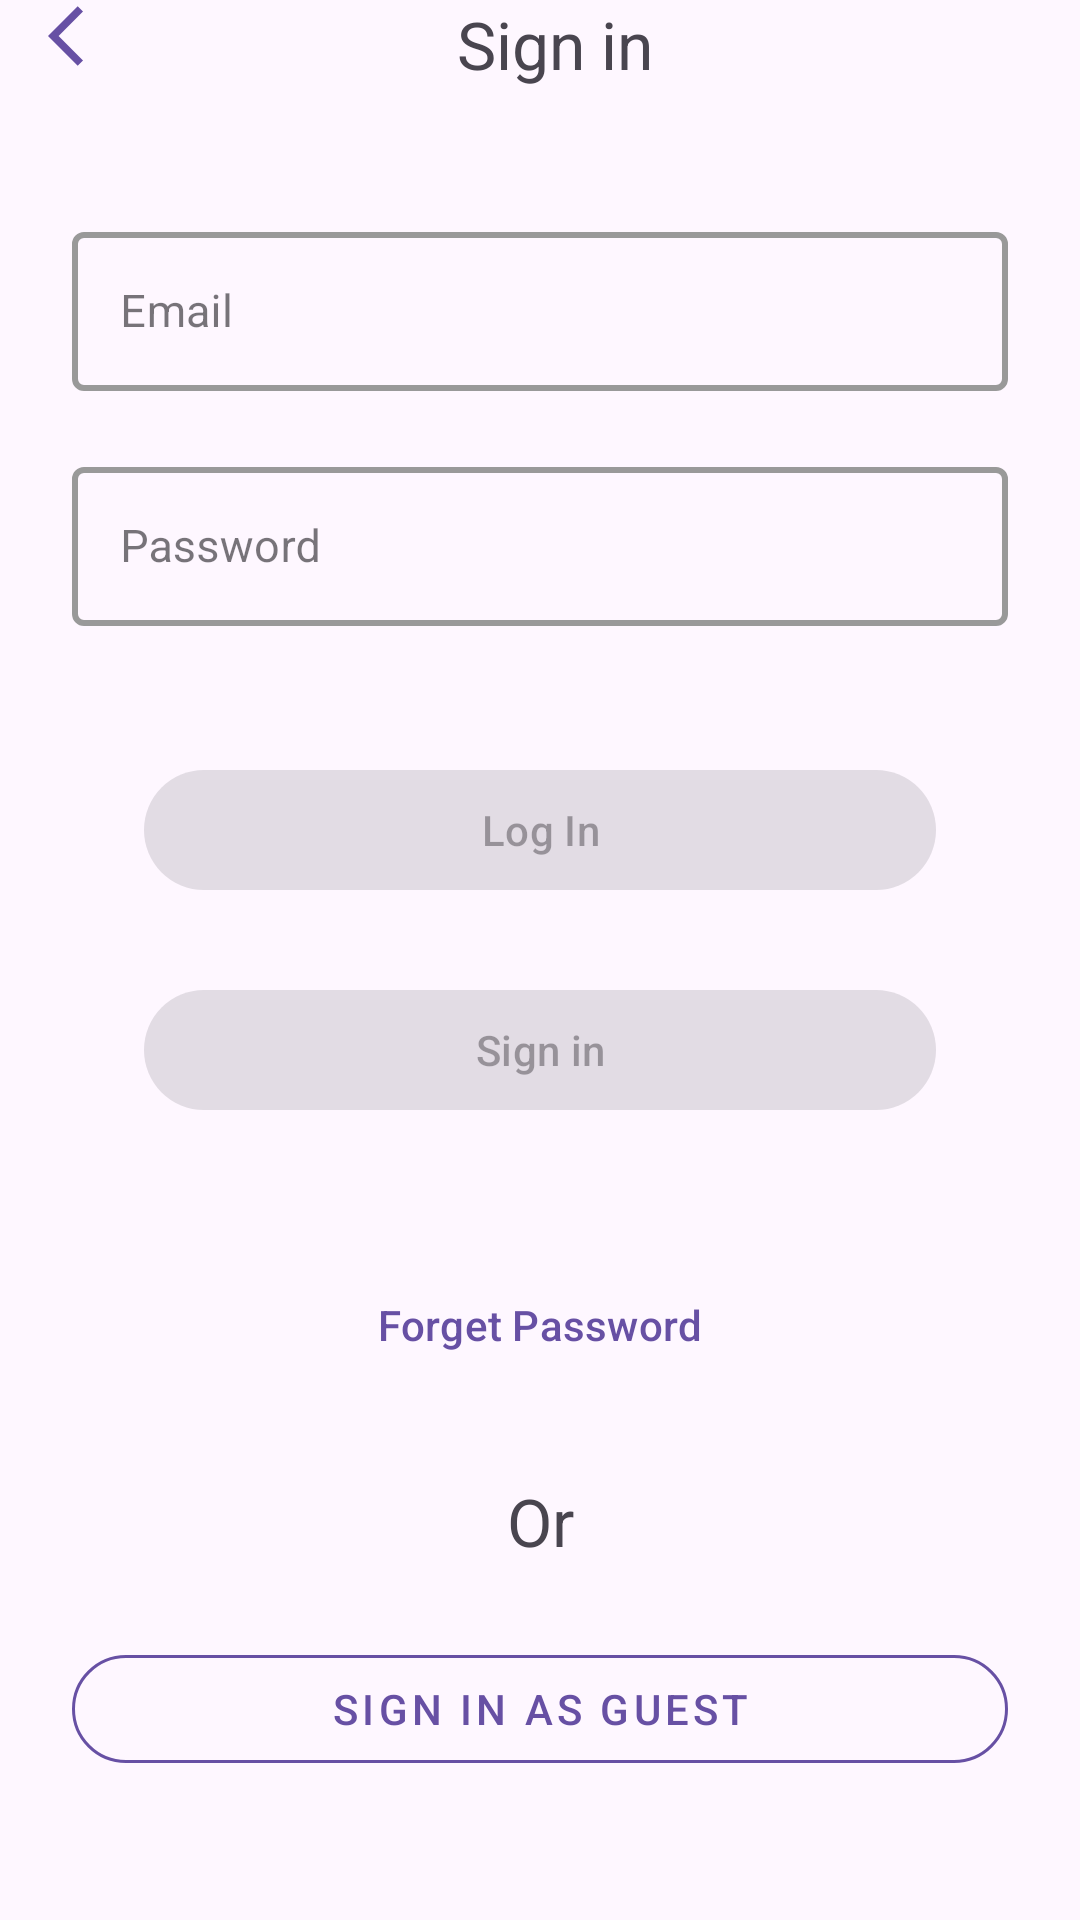

Locate icon controls on the screen. Image size 1080px×1920px, boxes as (x1, y1, x2, y2).
arrow back: (48, 6, 83, 66)
